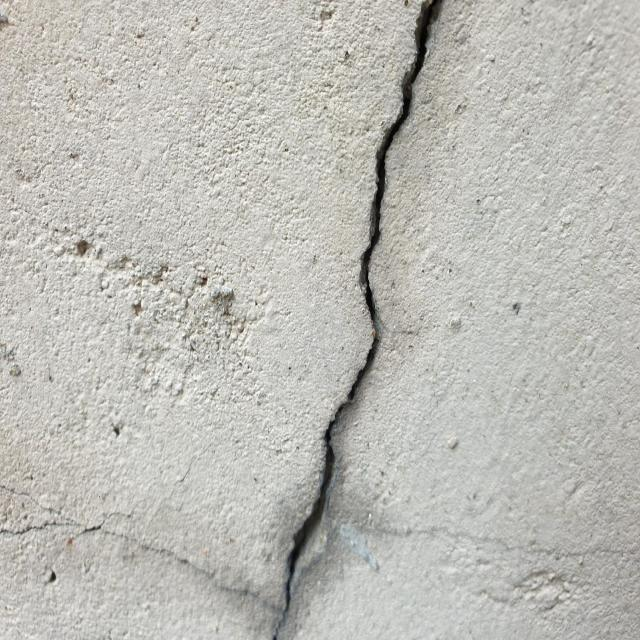SurfaceCrack: (234, 1, 475, 639)
